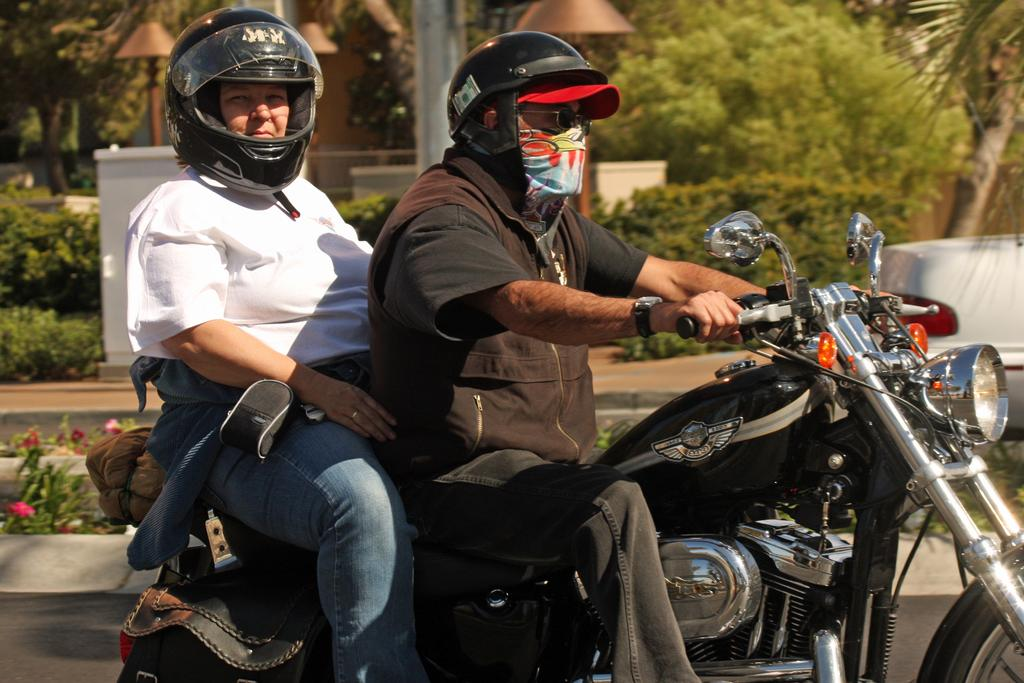helmet: (163, 6, 325, 195), (447, 30, 609, 188)
